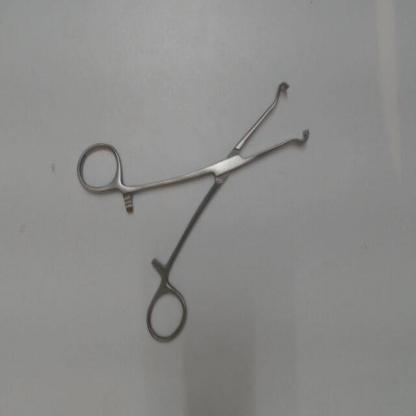Babcock Tissue Forceps: (74, 76, 314, 348)
